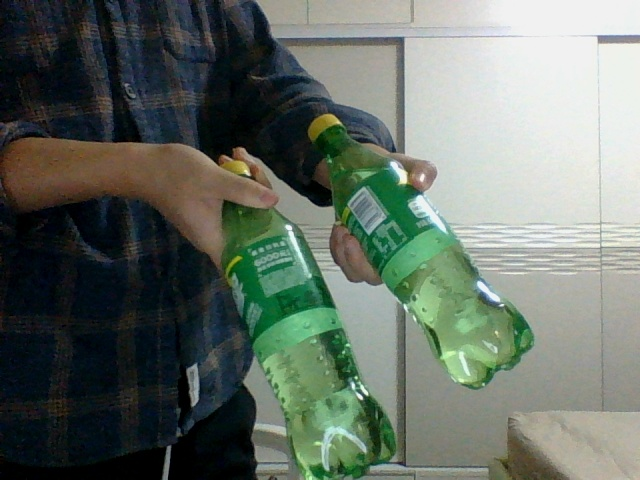Sprite: (308, 114, 535, 388), (222, 160, 397, 478)
